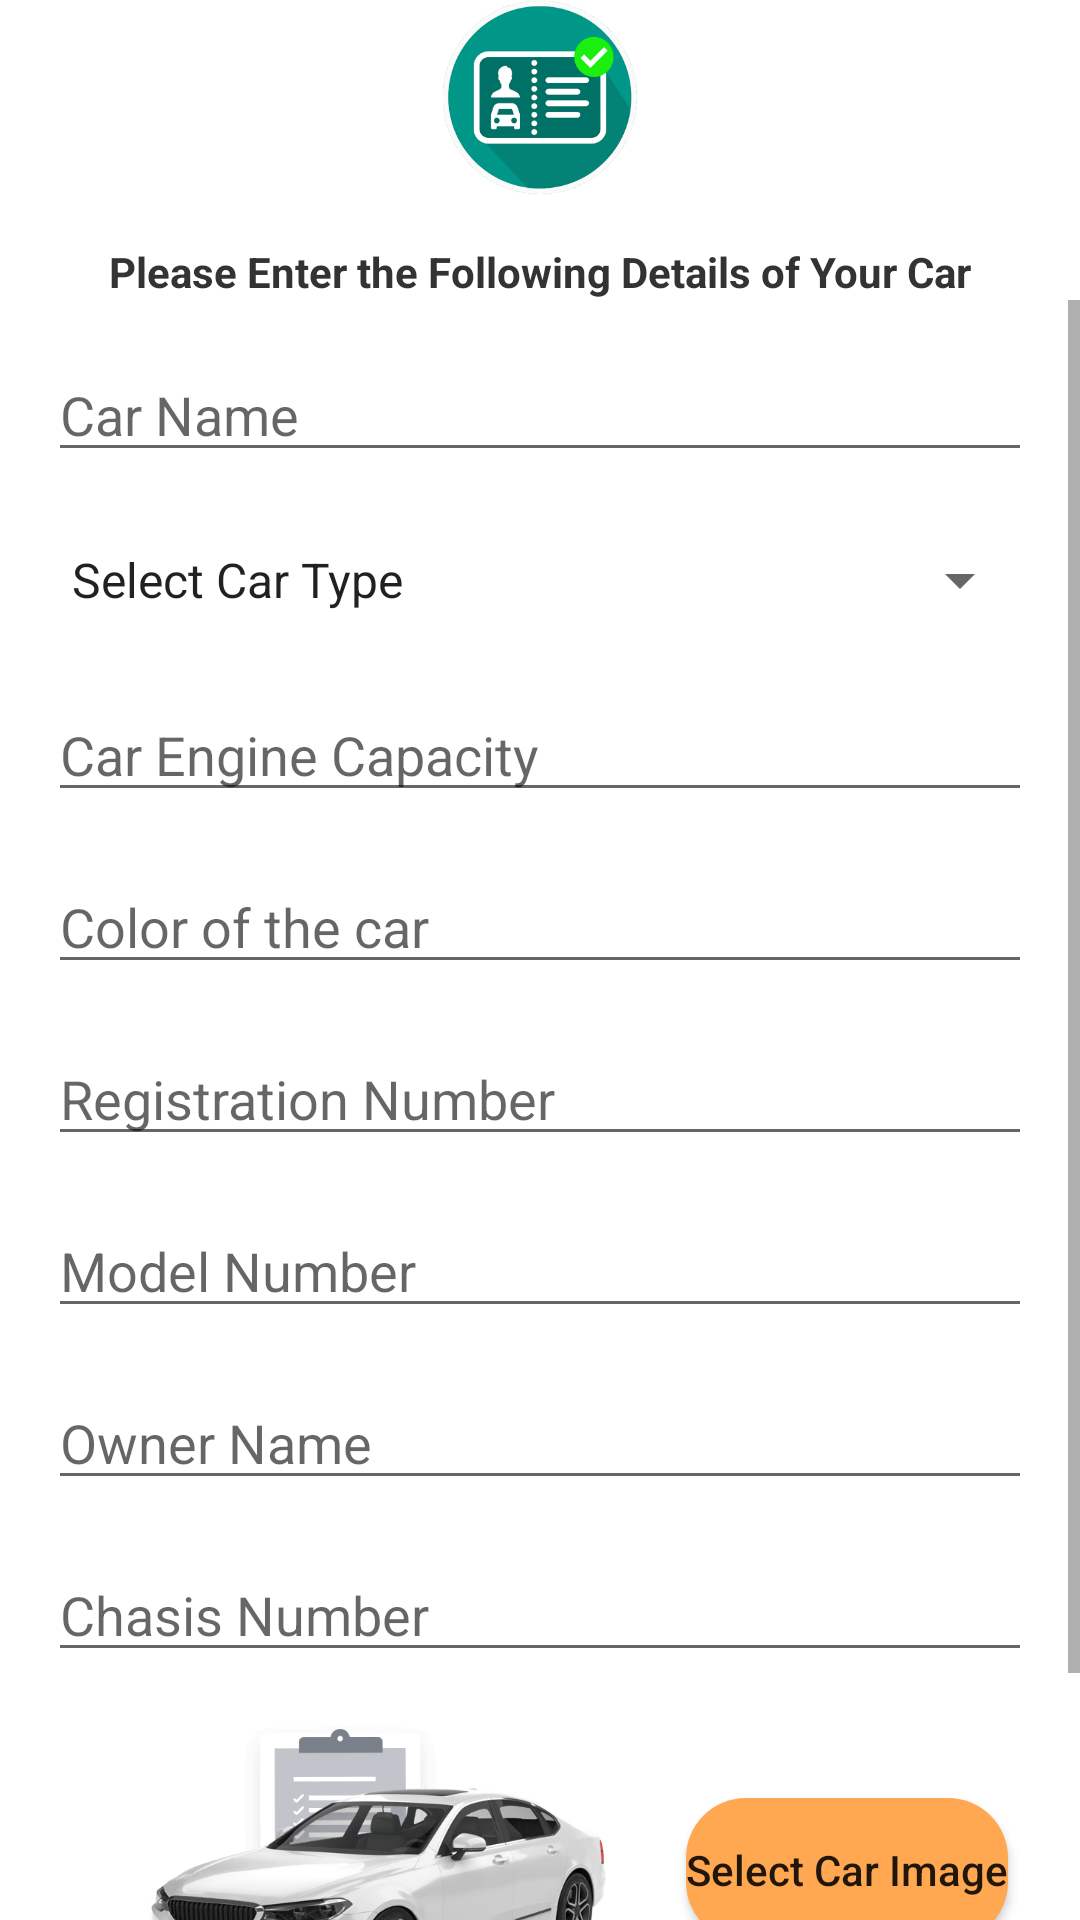

Point at icon controls on the screen. Image size 1080px x 1920px, points as (x=x, y=y).
vehicle details: (x=540, y=97)
